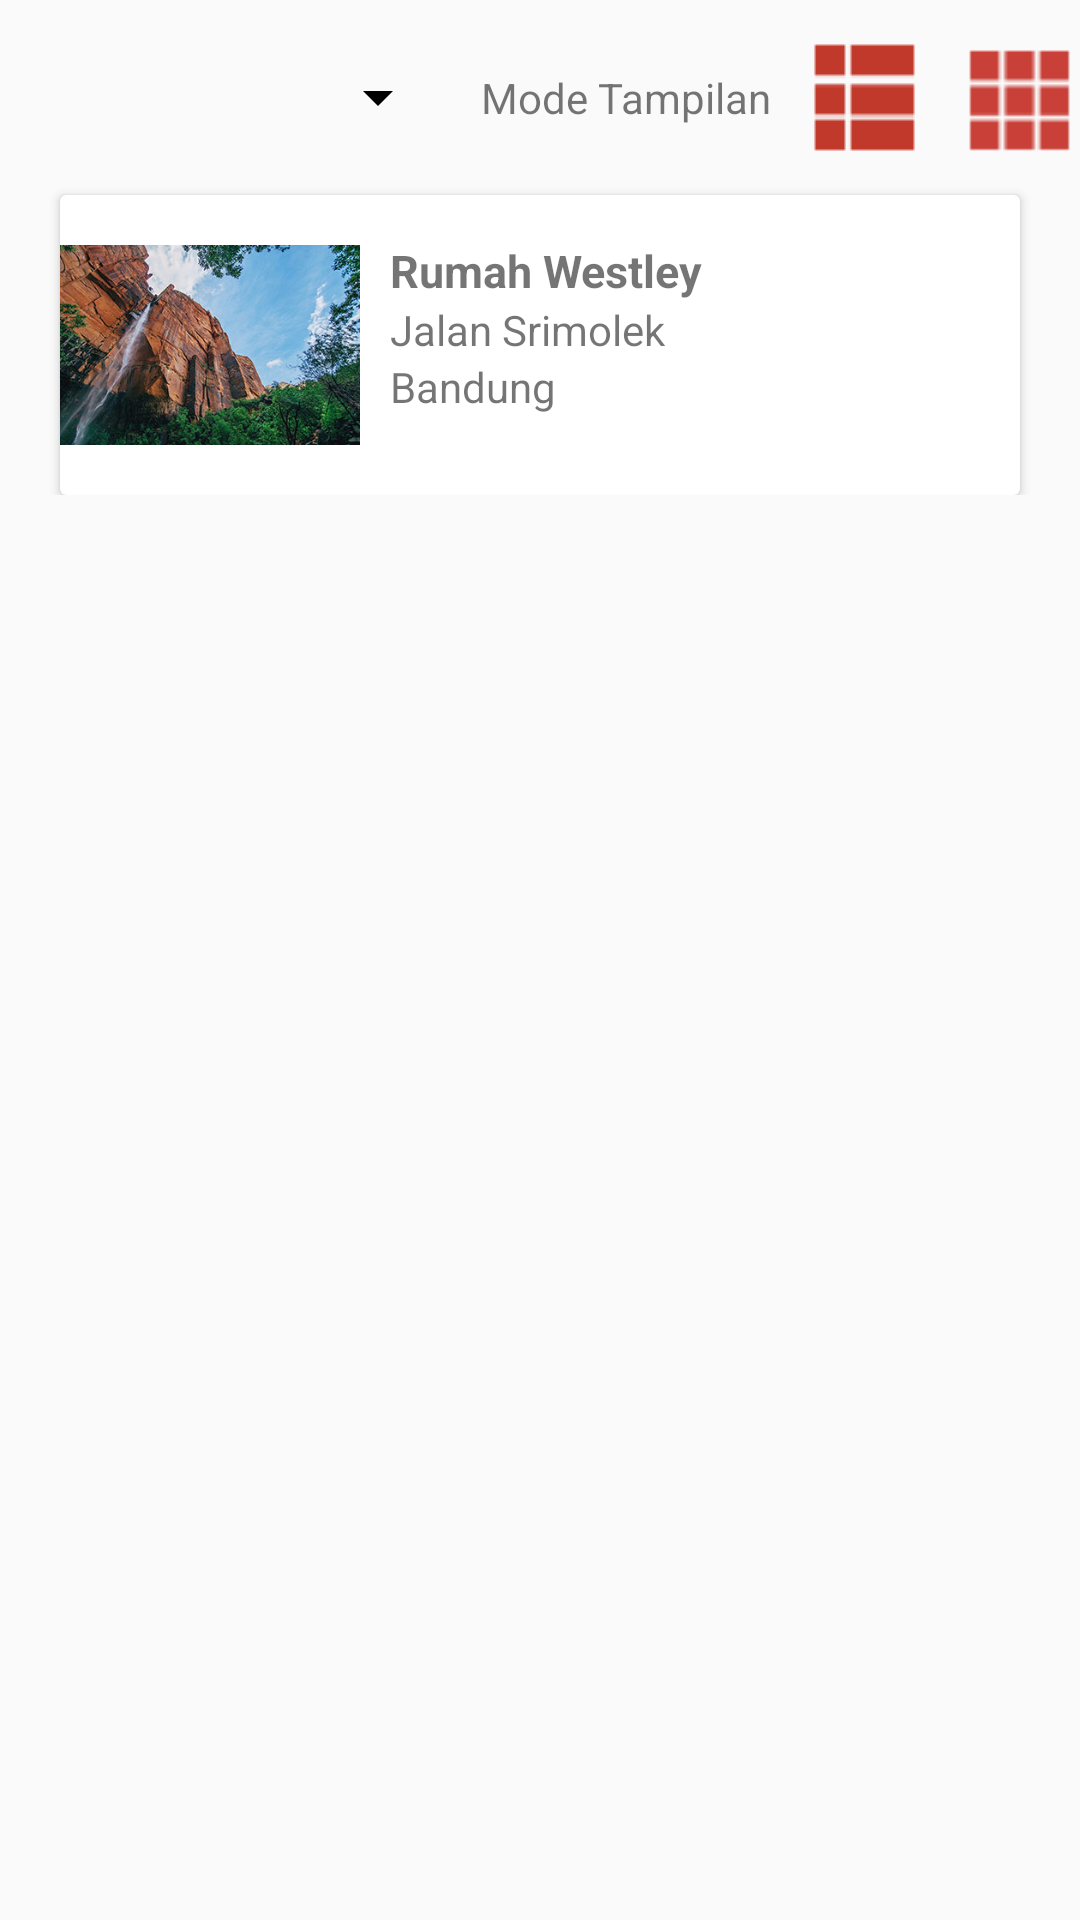

Named icons in this screenshot (1080px x 1920px) and their bounding boxes, box(x1, y1, x2, y2):
kotak: box(969, 50, 1070, 151)
kotaklist: box(814, 44, 915, 151)
